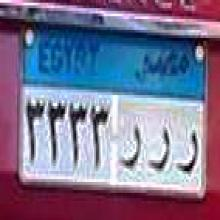3: (89, 99, 111, 178), (46, 97, 67, 172), (24, 94, 46, 165), (68, 96, 88, 168)
raa: (117, 116, 142, 176), (174, 125, 199, 181), (146, 125, 172, 175)
